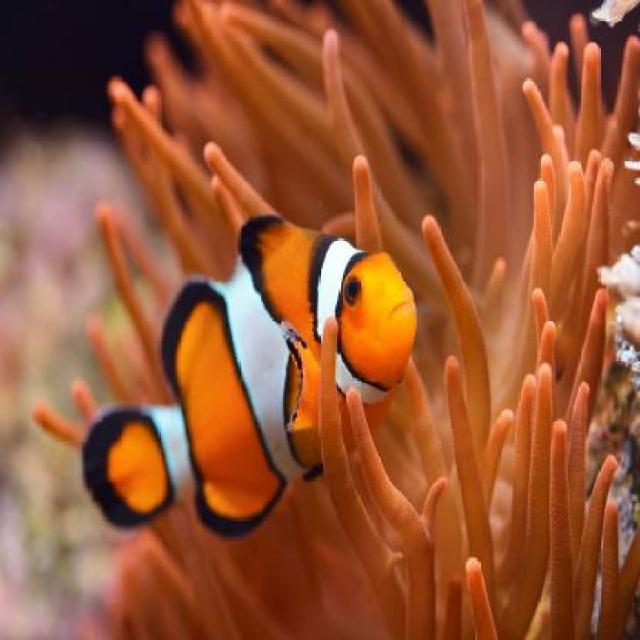ClownFish: (88, 214, 422, 528)
